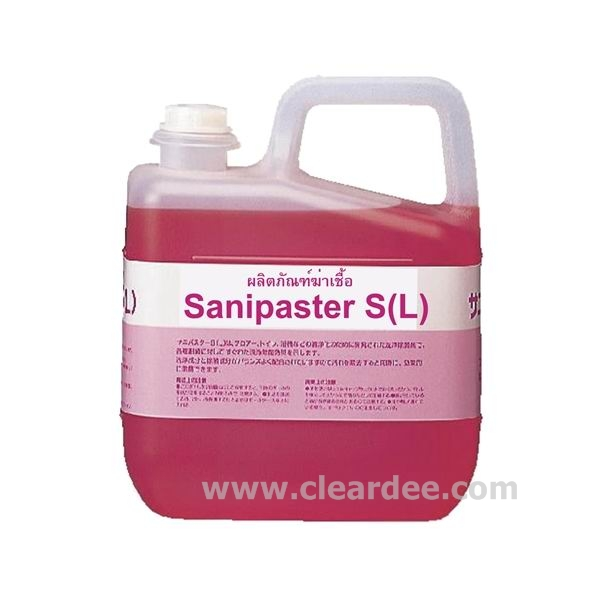Cleaning_solution: (112, 70, 491, 530)
